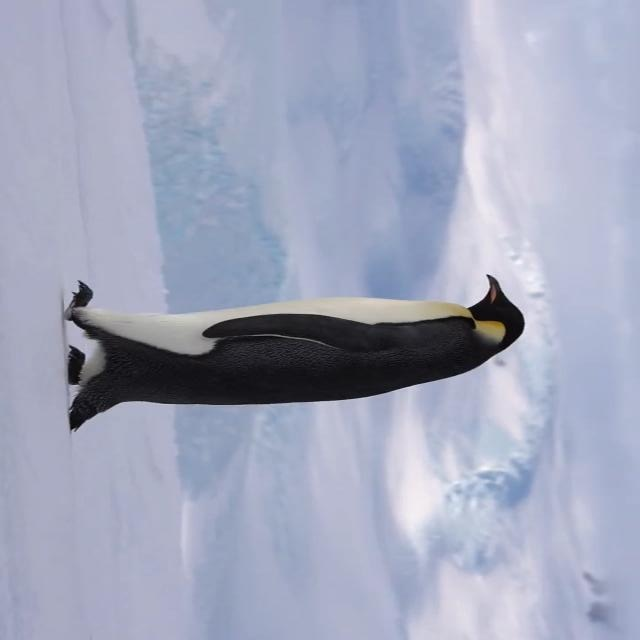penguin: (61, 273, 526, 433)
